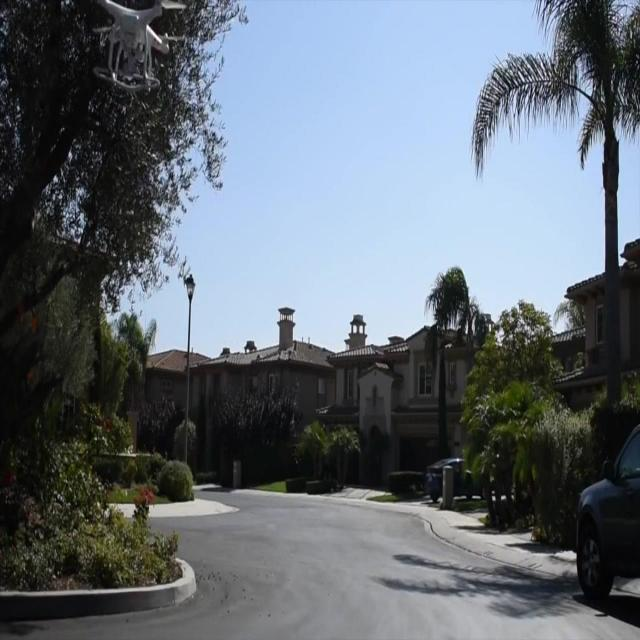UAV: (92, 0, 186, 92)
